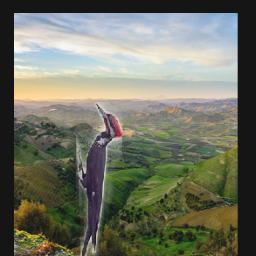Woodpecker: (77, 102, 123, 256)
